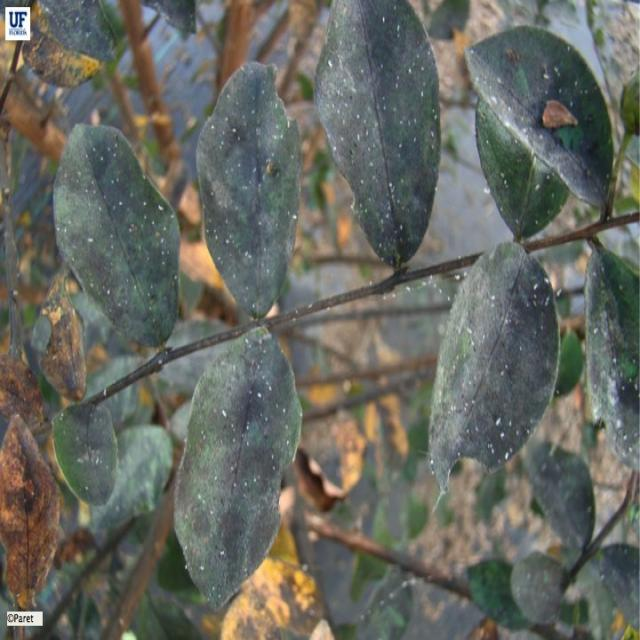Sooty Mold: (426, 239, 561, 506)
